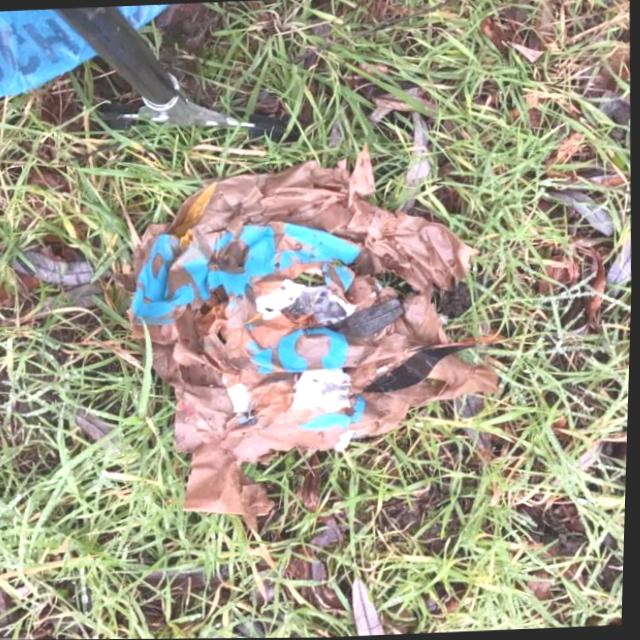Paper: (110, 135, 522, 527)
